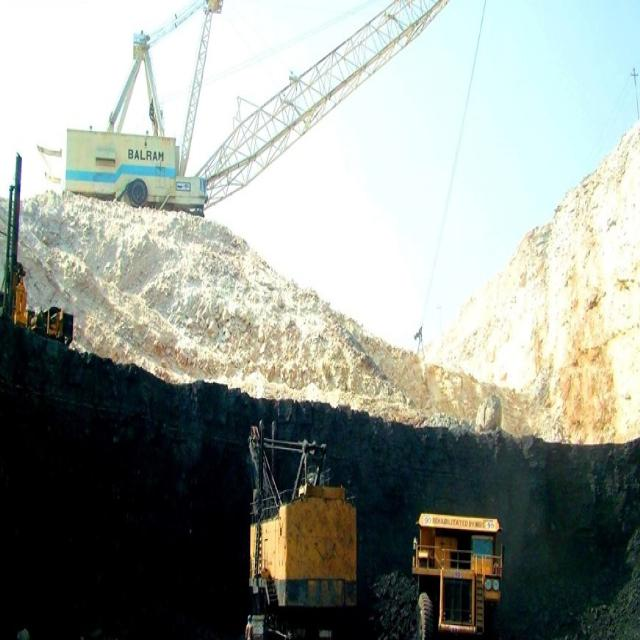dump_truck: (416, 499, 510, 640)
excavator: (237, 418, 360, 640)
